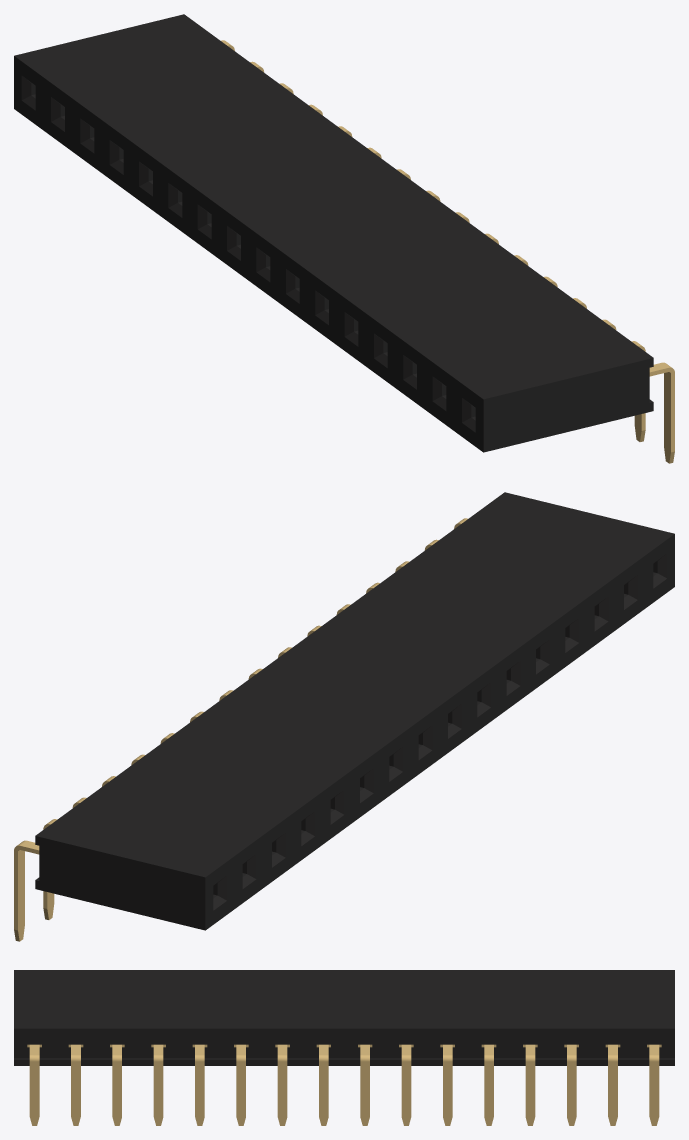
The model's file is kc-pinsocket_1x16_p2.54mm_horizontal.glb.
3 views of the same model, one above another, from view 1: azimuth 30°, elevation 25°; view 2: azimuth 150°, elevation 25°; view 3: azimuth 270°, elevation 25° (orthographic). The views are drawn at different scales.
Parts seen in each view (by area): view 1: 0_0_0_0, 0.75_0.5_0.25_0.9; view 2: 0_0_0_0, 0.75_0.5_0.25_0.9; view 3: 0_0_0_0, 0.75_0.5_0.25_0.9.
Boxes of the visible parts, box(x1,y1,x2,y2) form: 0_0_0_0: box(14, 14, 653, 452); 0.75_0.5_0.25_0.9: box(221, 40, 674, 463); 0_0_0_0: box(35, 492, 674, 930); 0.75_0.5_0.25_0.9: box(14, 518, 467, 941); 0_0_0_0: box(14, 970, 674, 1065); 0.75_0.5_0.25_0.9: box(27, 1044, 661, 1125).
Bounding box in the file's own units: 1.01 × 0.584 × 4.06.
